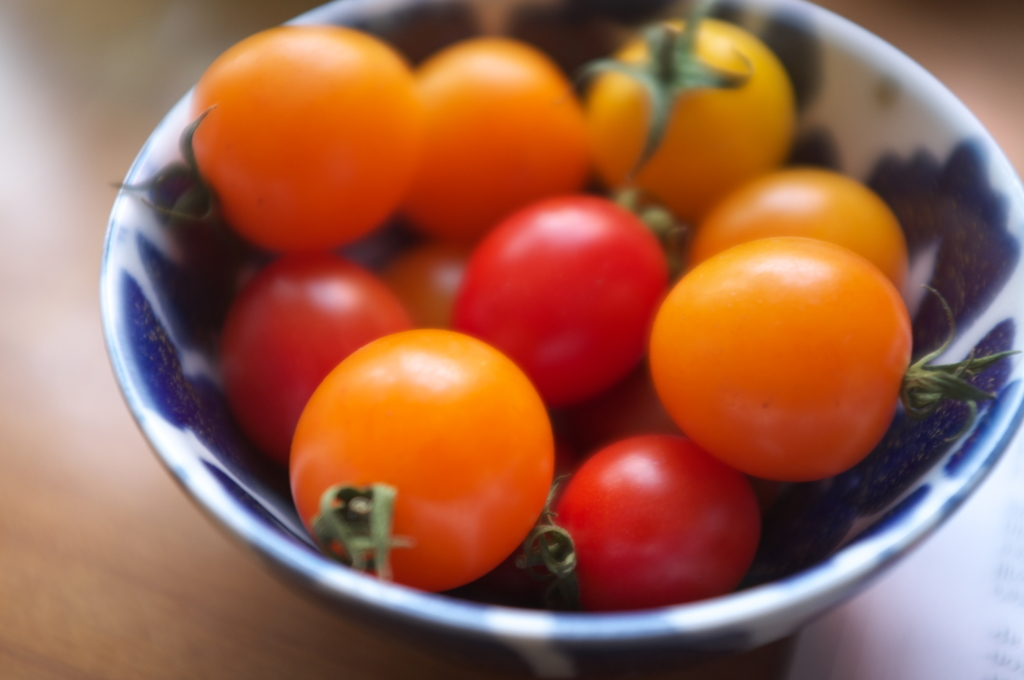Tomato: (110, 3, 1023, 619), (547, 429, 756, 610)
